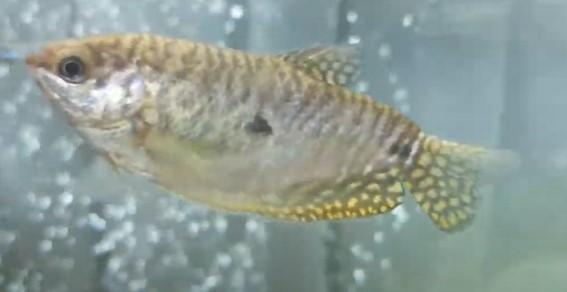Gourami: (26, 32, 533, 241)
